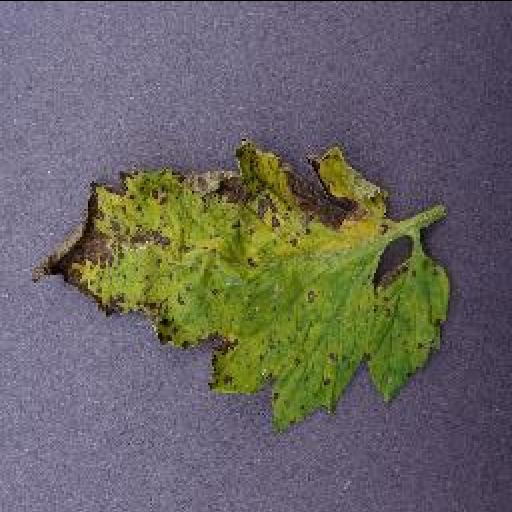disease_tomato: (30, 142, 448, 428)
